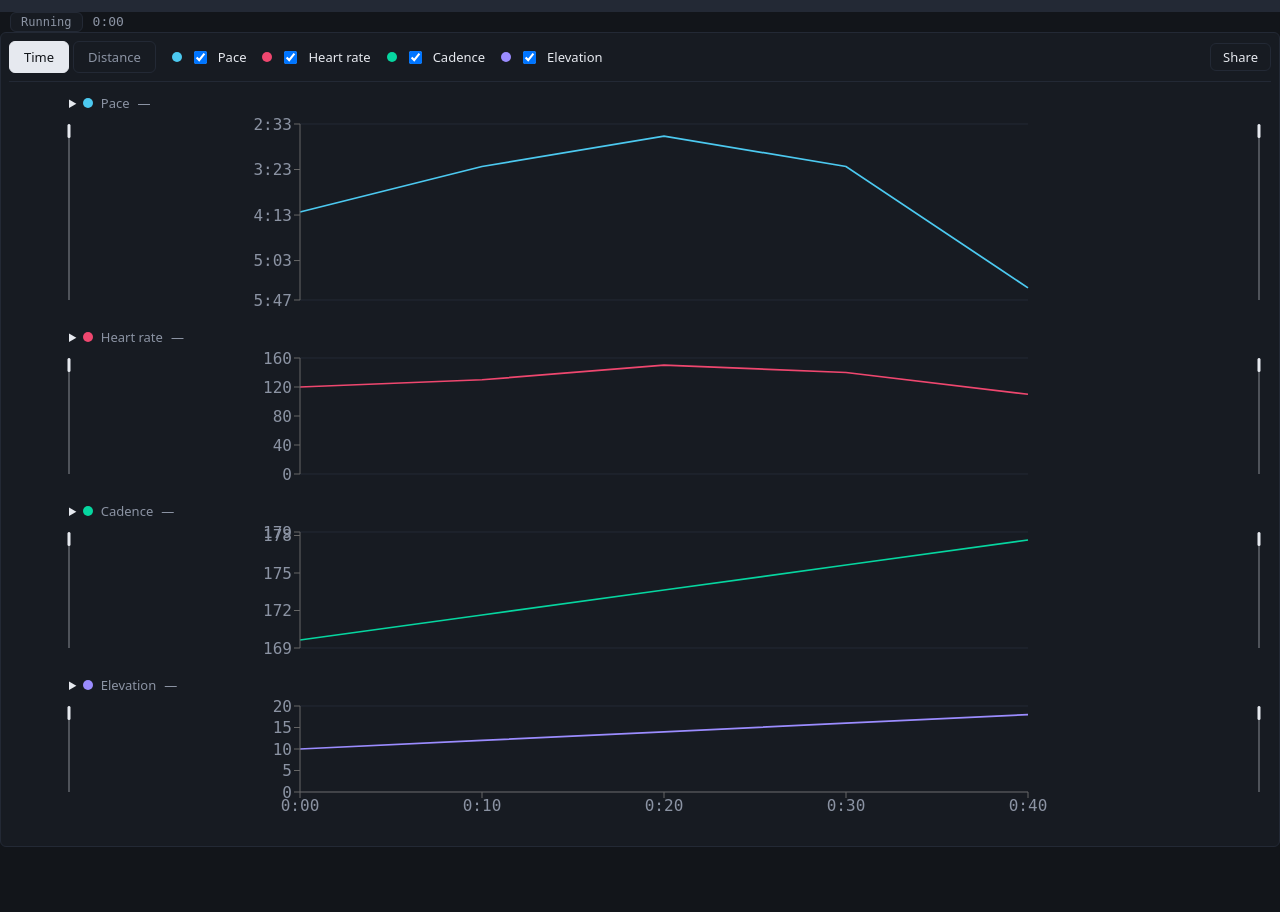
ChartStack › shows a Reset zoom control only once zoomed, and restores the full domain
Expected: the element with class "metric-panel" showing "Pace" is shown, [9,94,1271,316]
Expected: the button "reset zoom" is not shown
Press the mouse on the slider with class "zoom-handle" in the row of "2:33" at (69, 212), box [47,124,91,300]
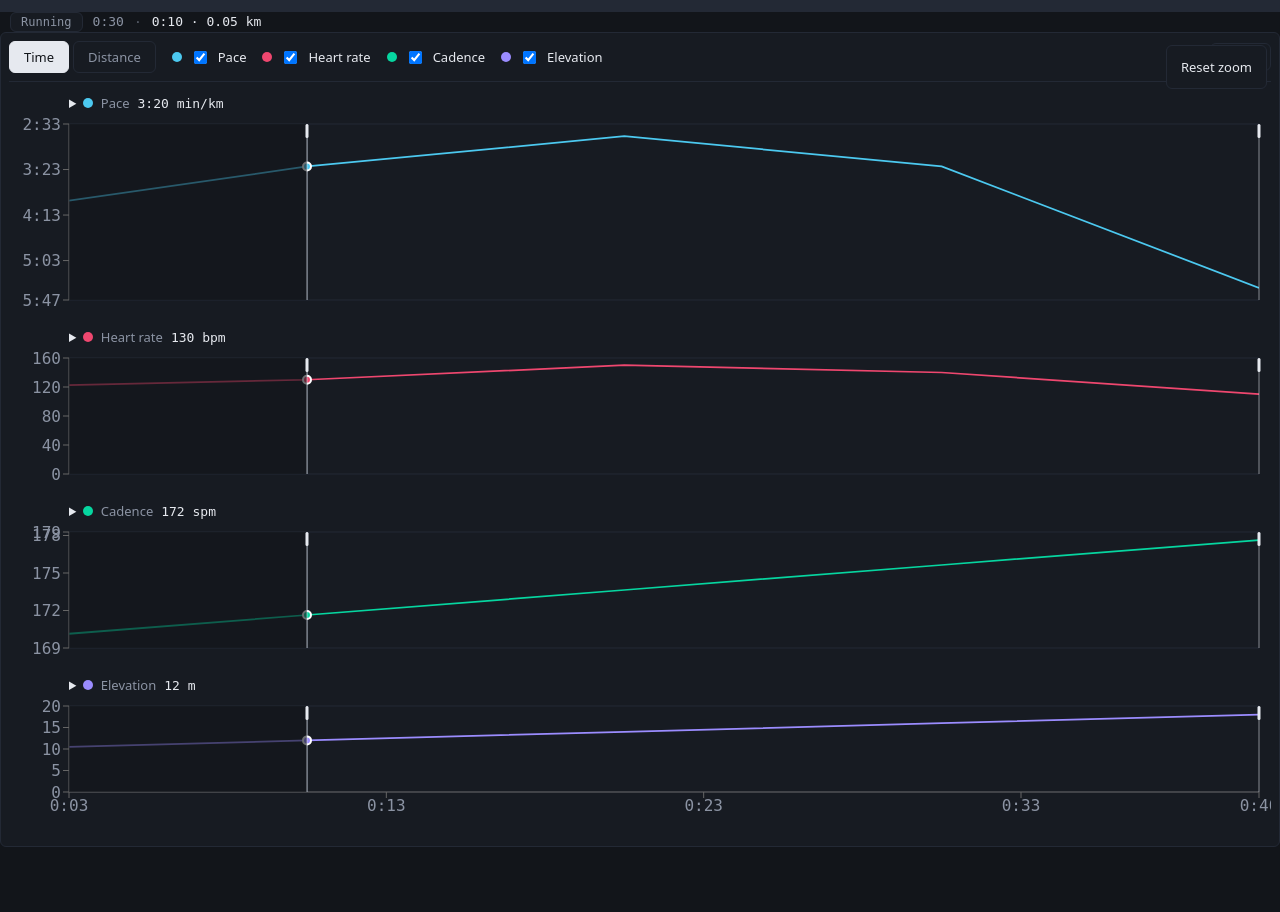
Press the mouse on the slider with class "zoom-handle" in the row of "2:33" at (1258, 212), box [1237,124,1279,300]
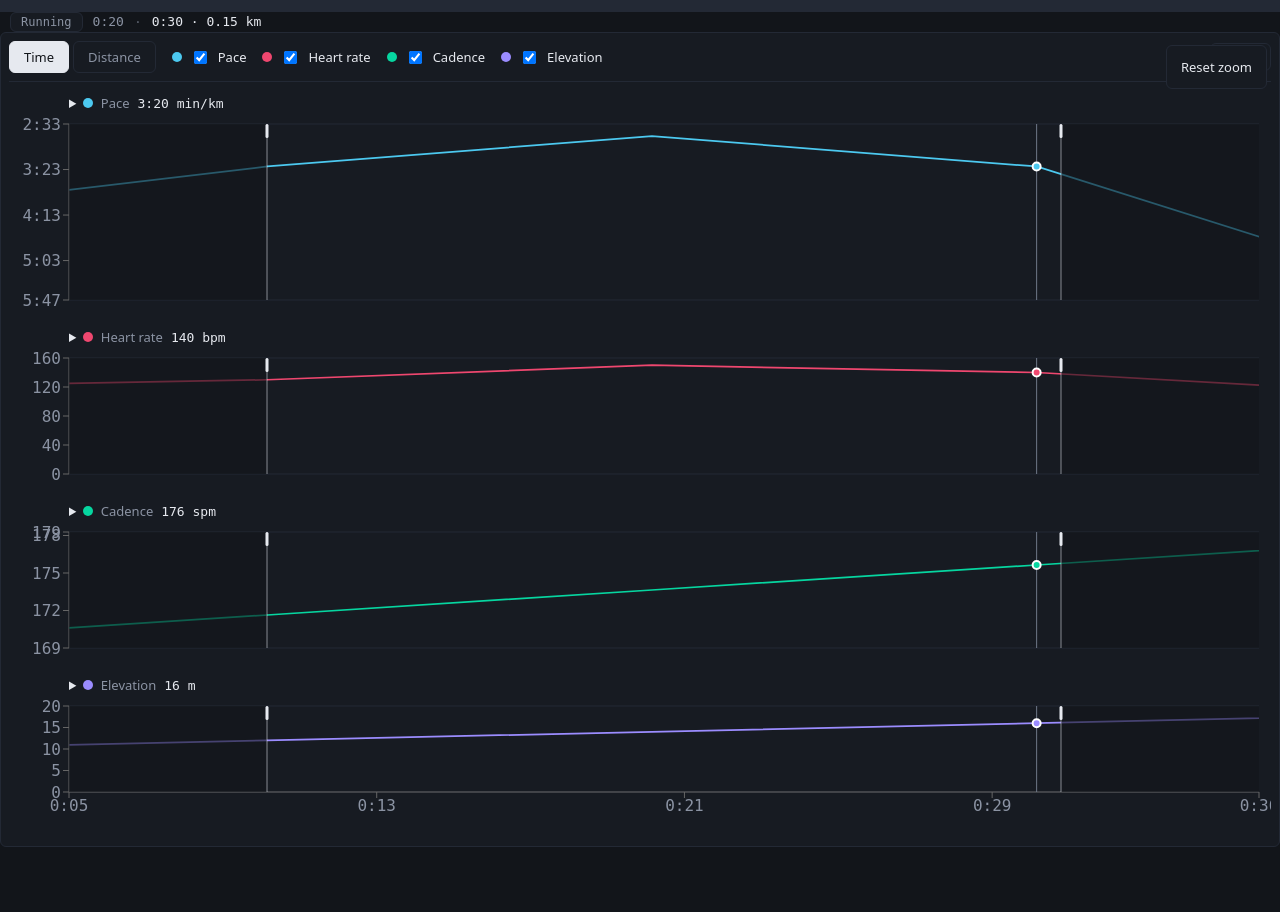
Click the button "Reset zoom" at (1216, 67), box [1166,45,1267,89]
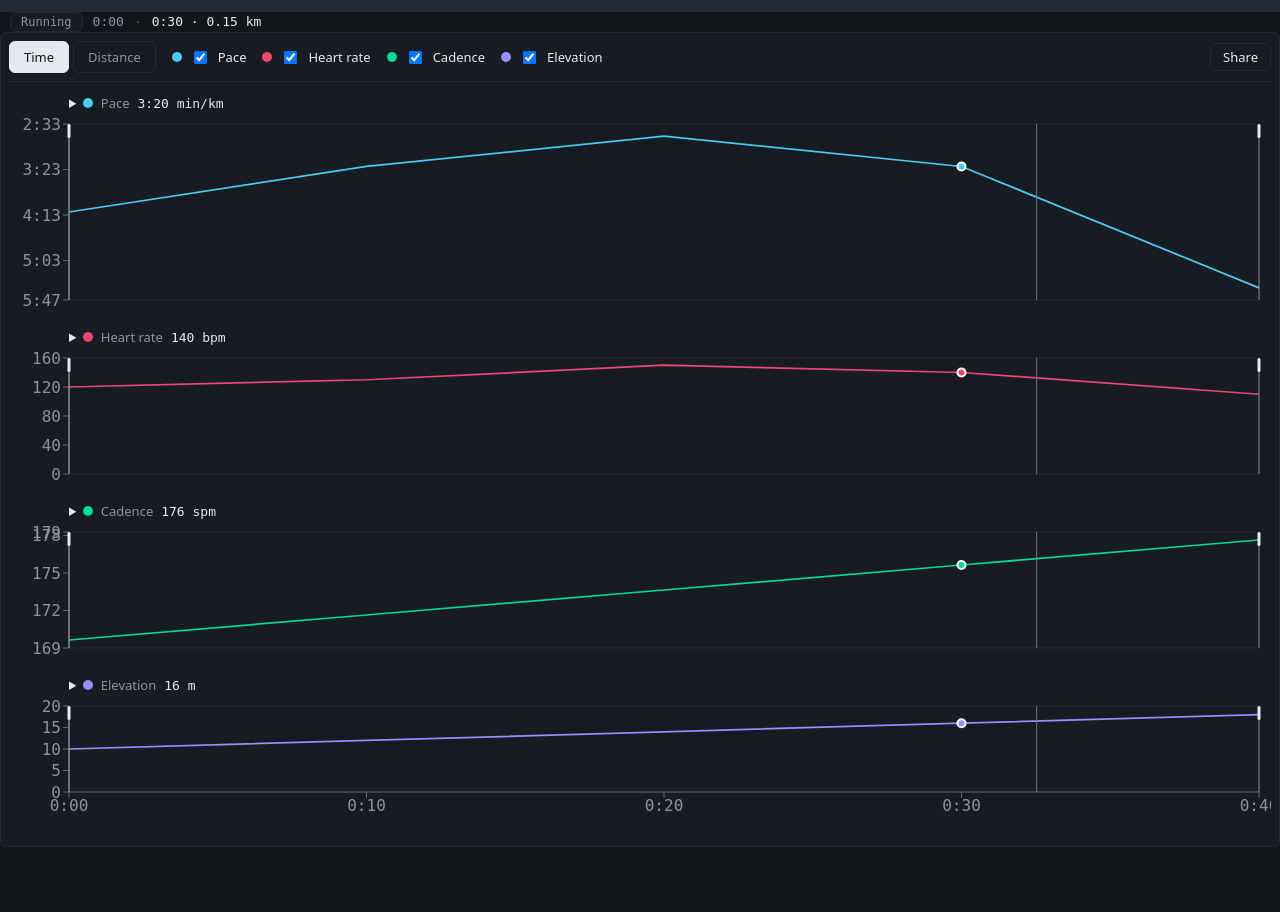
Now the button "Reset zoom" is gone
